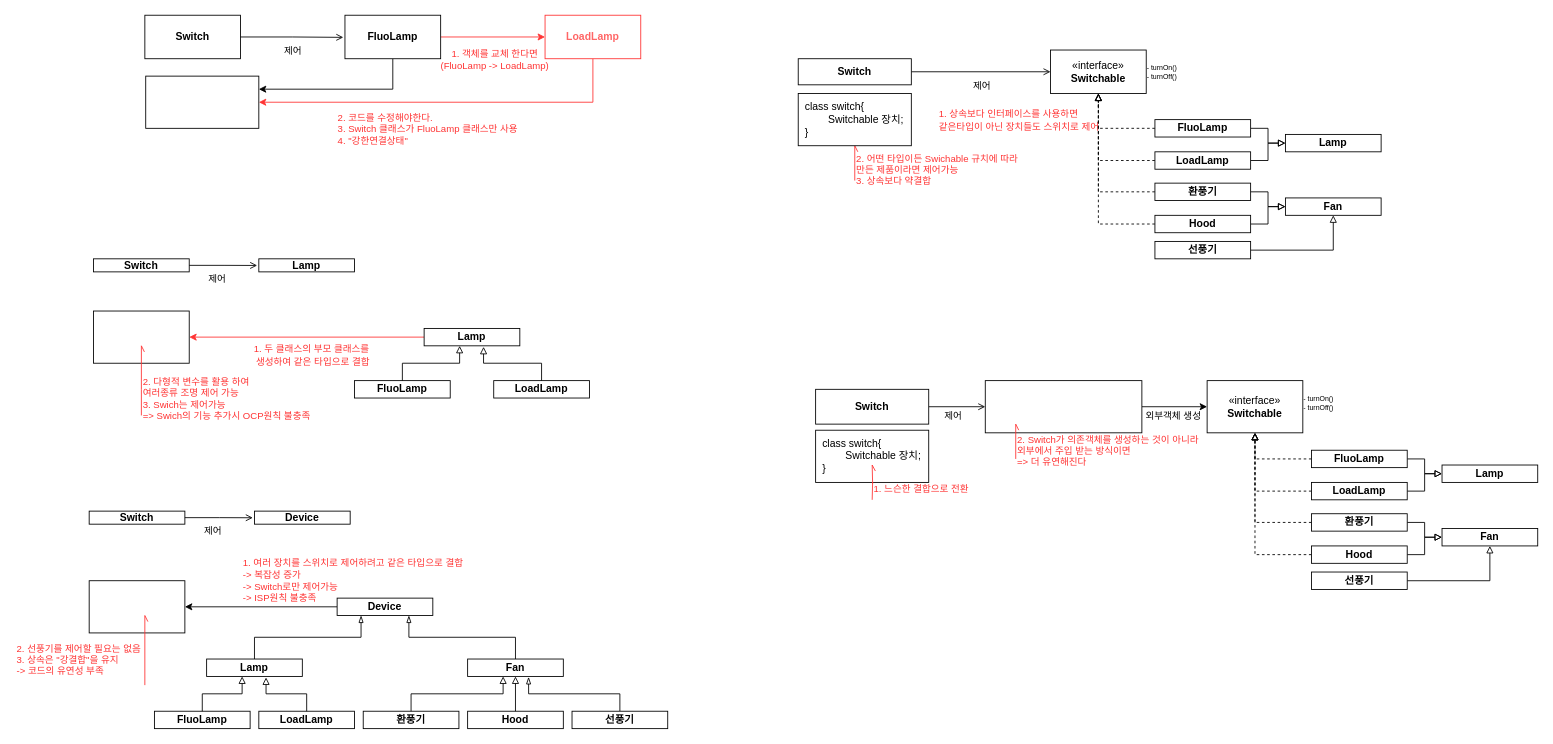
This 1553x744 diagram has some shape labels left out. Each missing label, with the centre of its shape:
"class switch{ Device 장치; }" goes at pixel 136 606.
"class switch{ FlouLamp light; }" goes at pixel 202 101.
"class switch{ Lamp light; }" goes at pixel 141 336.
"FlouLamp light1 = new FlouLamp(); Switch switch = new Switch(light1);" goes at pixel 1063 406.
